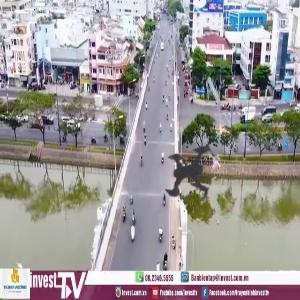drone: (105, 85, 285, 265)
